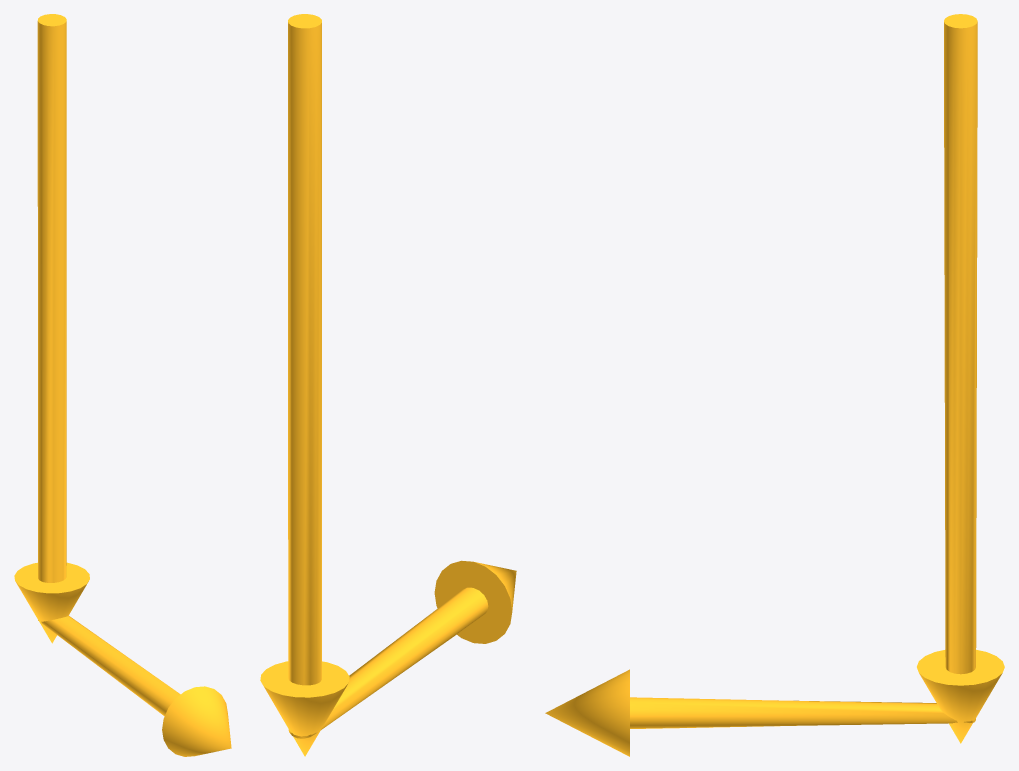
File: bearing_housing_flow.glb
The picture shows the model from 3 angles, left to right: view 1: azimuth 30°, elevation 25°; view 2: azimuth 150°, elevation 25°; view 3: azimuth 270°, elevation 25°; orthographic projection. The views are drawn at different scales.
Visible parts, largest first — view 1: oil_level; view 2: oil_level; view 3: oil_level.
Part boxes in pixels (x1=…): oil_level: x1=14, y1=14, x2=231, y2=756; oil_level: x1=260, y1=14, x2=516, y2=756; oil_level: x1=545, y1=14, x2=1004, y2=756.
Bounding box in the file's own units: 0.0208 × 0.1904 × 0.1084.
